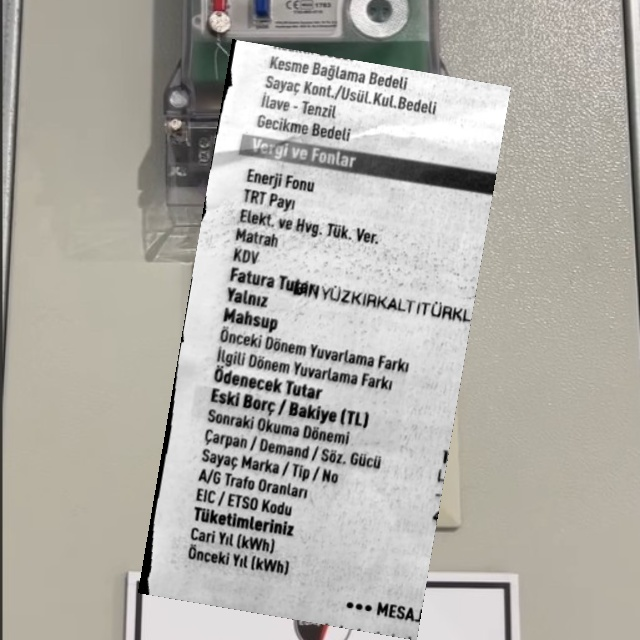electricity-bill: (138, 38, 510, 639)
